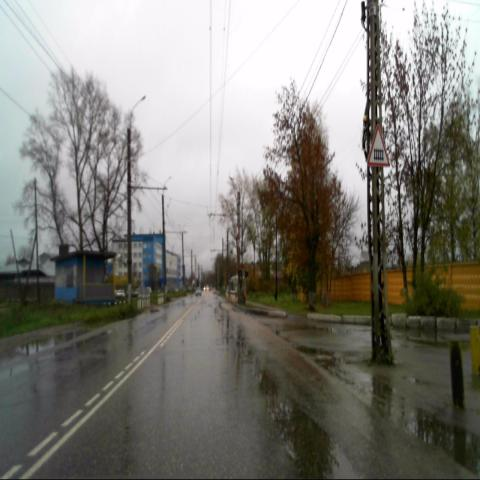1_1: (366, 122, 391, 168)
